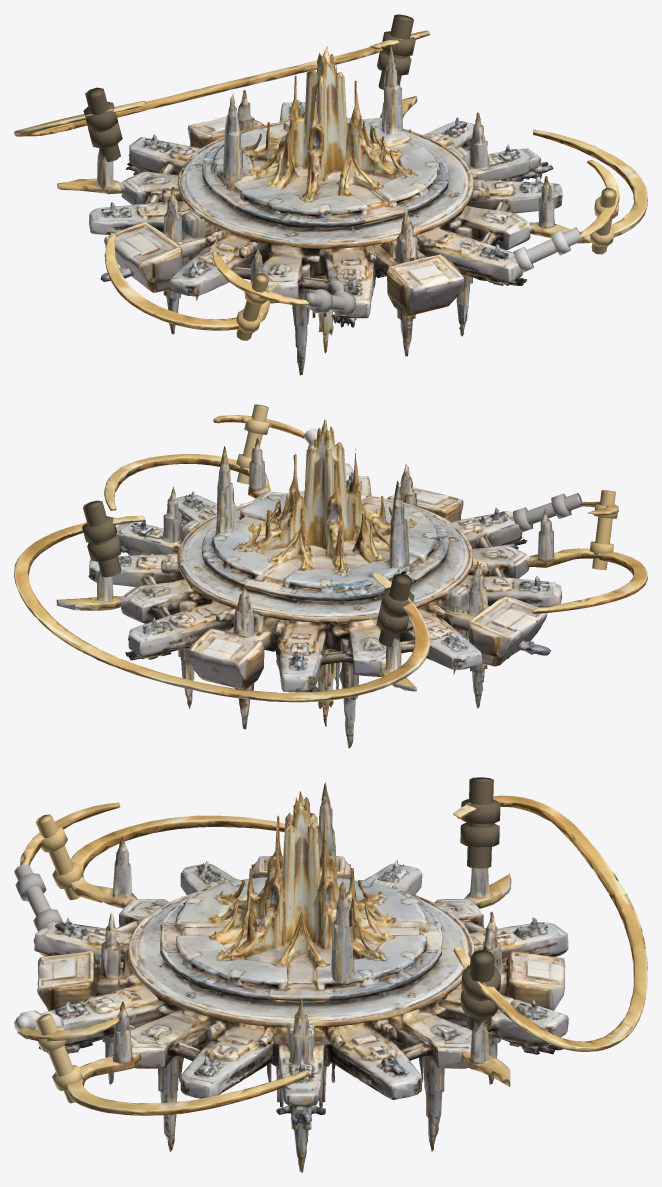
File: st3d_radiant_dawnchoir.glb
3 renders of one model, top to bottom at view 1: azimuth 30°, elevation 25°; view 2: azimuth 150°, elevation 25°; view 3: azimuth 270°, elevation 25°, orthographic. The views are drawn at different scales.
Parts seen in each view (by area): view 1: HOMELANCER_Station3D_Radiant-DawnchoirShrine_v1; view 2: HOMELANCER_Station3D_Radiant-DawnchoirShrine_v1; view 3: HOMELANCER_Station3D_Radiant-DawnchoirShrine_v1.
Boxes of the visible parts, x1,y1,x2,y2 form: HOMELANCER_Station3D_Radiant-DawnchoirShrine_v1: (14, 14, 647, 375); HOMELANCER_Station3D_Radiant-DawnchoirShrine_v1: (14, 404, 647, 748); HOMELANCER_Station3D_Radiant-DawnchoirShrine_v1: (14, 777, 647, 1172).
Bounding box in the file's own units: 0.9792 × 0.5619 × 0.8969.
Materials: 1 (1 with a texture image).
